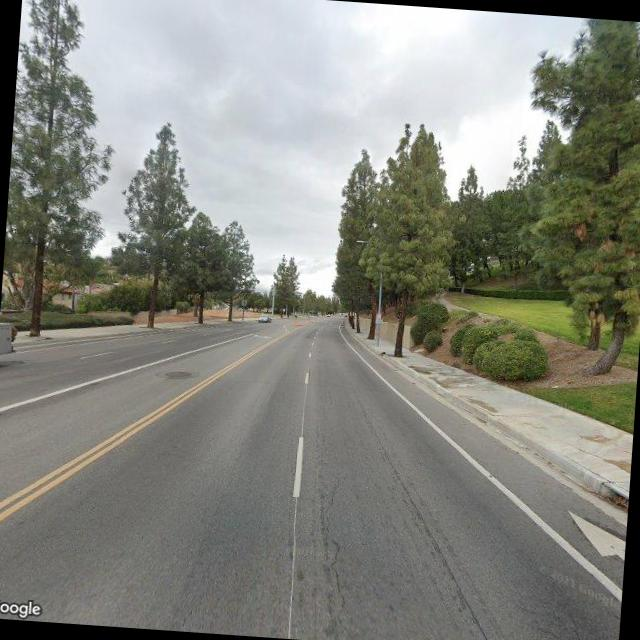pothole: (311, 462, 364, 640)
